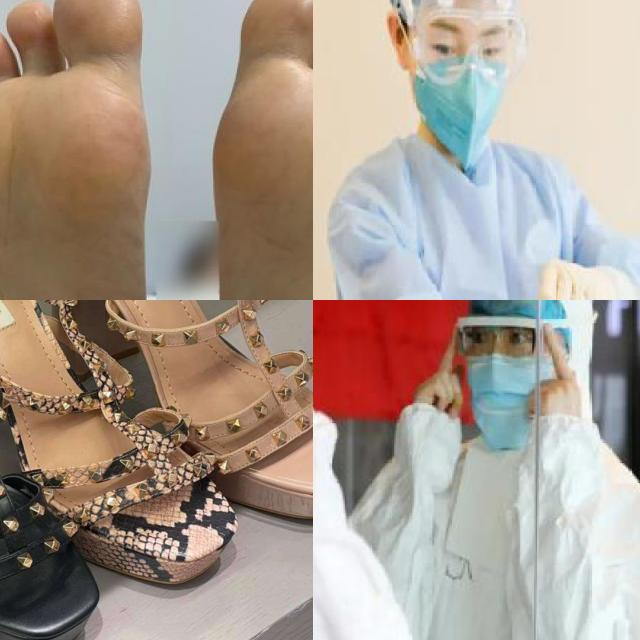Barefoots: (0, 0, 158, 300), (208, 0, 313, 300)
Sandals: (35, 300, 313, 528), (0, 300, 107, 640)
face_mask: (412, 14, 513, 167), (464, 322, 550, 459)
glasses: (407, 2, 528, 87), (450, 312, 550, 370)
hand_glove: (533, 257, 619, 300)
hand_noglove: (413, 324, 471, 425), (526, 322, 582, 425)
person: (313, 0, 640, 300)
